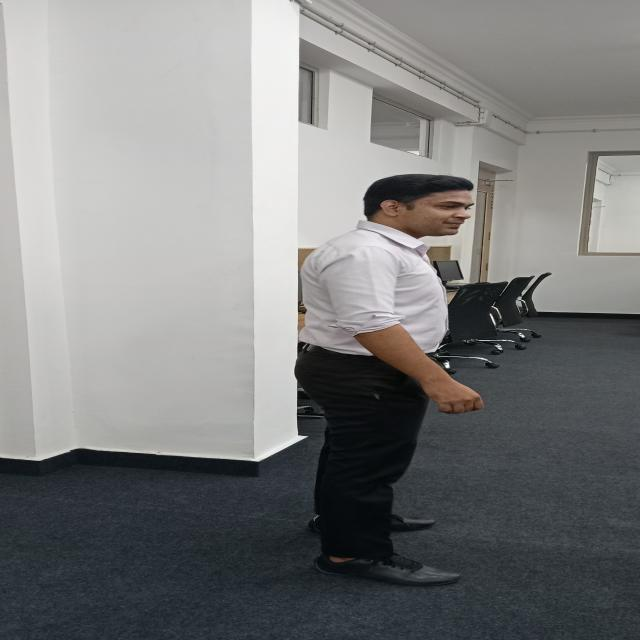unsafe: (286, 168, 496, 594)
